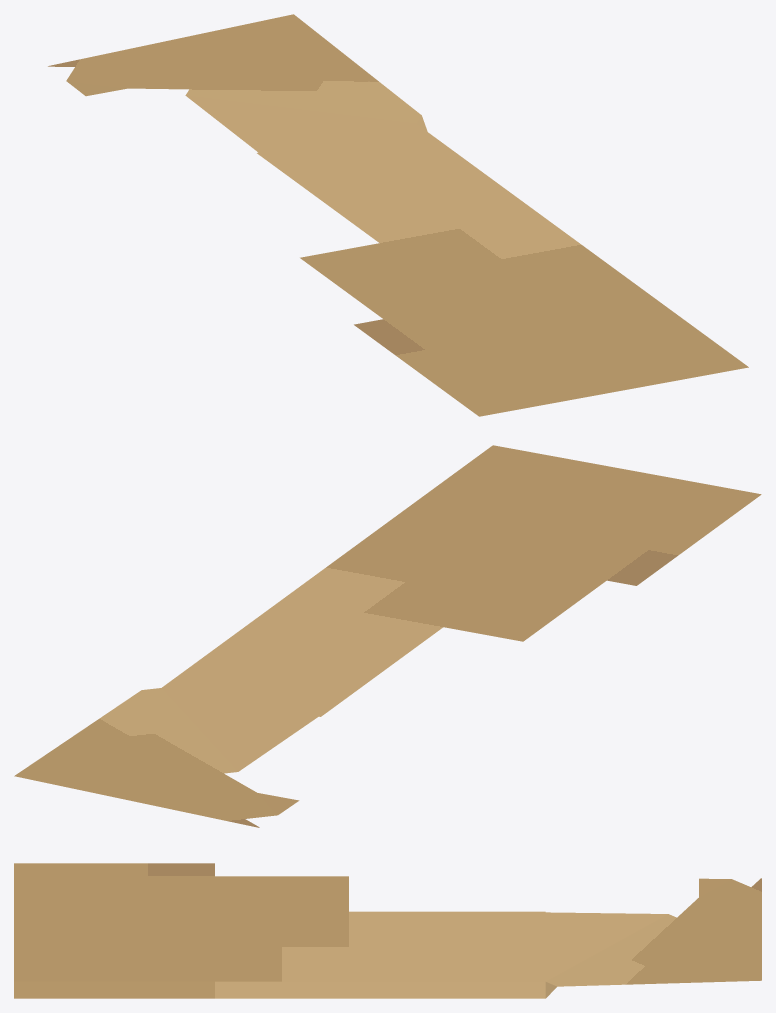
3 views of the same model, one above another, from view 1: azimuth 30°, elevation 25°; view 2: azimuth 150°, elevation 25°; view 3: azimuth 270°, elevation 25° (orthographic). The views are drawn at different scales.
Size of the model in its own units: 0.3486 by 0.0373 by 1.
1 material, 1 textured.
